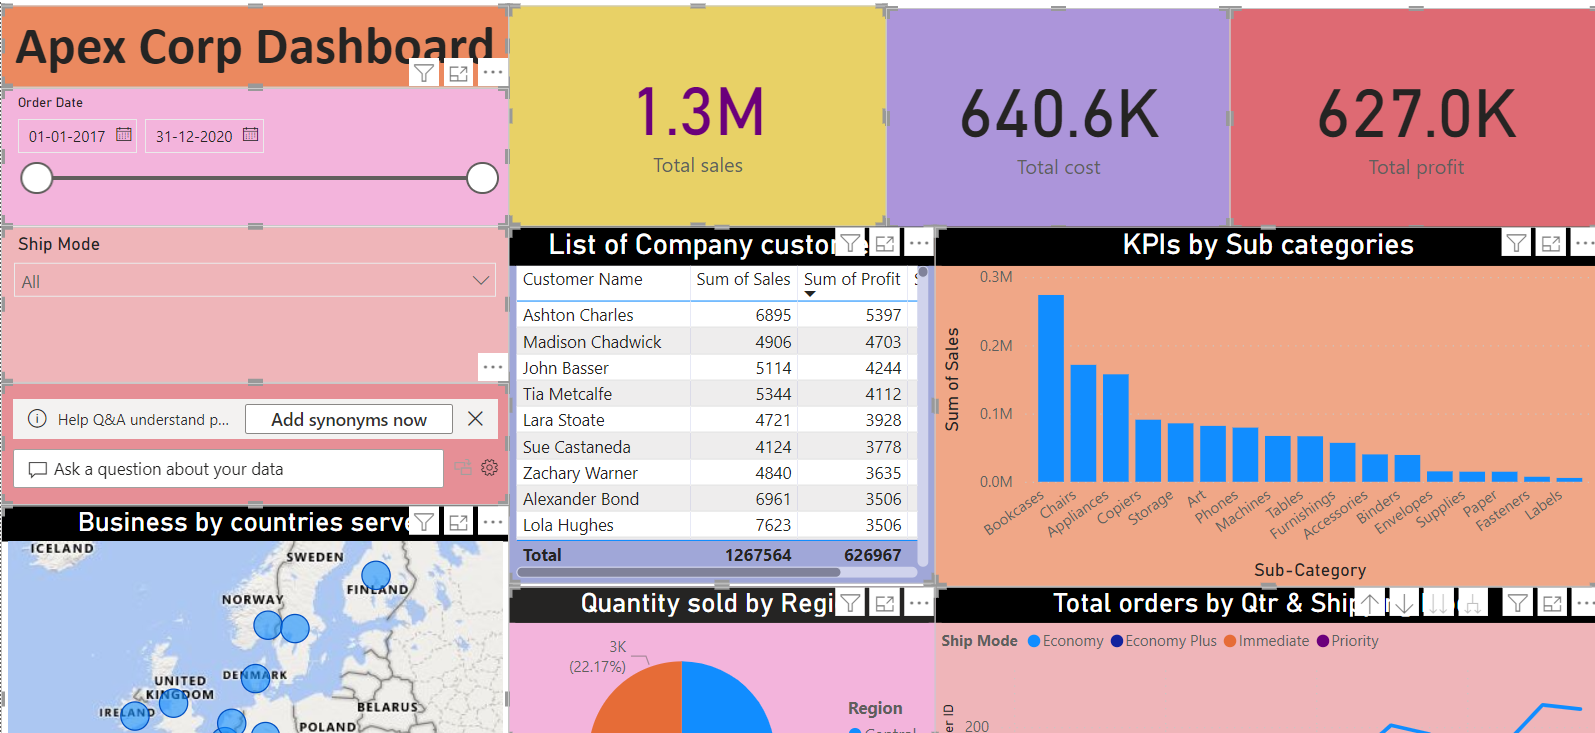

What the dashboard file says about the page in this screenshot:
{"tool":"powerbi","page":{"name":"Dashboard","canvas":[1280,720],"ordinal":0},"visuals":[{"type":"card","fields":{"Values":["List of Orders.Sales"]},"box":[406.4,9.6,301.5,177.3],"z":0},{"type":"card","fields":{"Values":["List of Orders.Cost"]},"box":[707.9,12.1,275,177.3],"z":1000},{"type":"card","fields":{"Values":["List of Orders.Profit"]},"box":[982.9,12.1,296.7,177.3],"z":2000},{"type":"tableEx","title":"List of Company customers","fields":{"Values":["List of Orders.Customer Name","List of Orders.Sales","List of Orders.Profit","List of Orders.Cost"]},"box":[406.4,186.9,340.1,285.8],"z":3000},{"type":"clusteredColumnChart","title":"KPIs by Sub categories","fields":{"Y":["List of Orders.Sales"],"Category":["List of Orders.Sub-Category"]},"box":[746.5,186.9,533.1,288.2],"z":4000},{"type":"lineChart","title":"Total orders by Qtr & Shipping Mode","fields":{"Y":["List of Orders.Order ID"],"Category":["List of Orders.Order Date.Variation.Date Hierarchy.Year","List of Orders.Order Date.Variation.Date Hierarchy.Quarter"],"Series":["List of Orders.Ship Mode"]},"box":[746.5,475.2,534.3,244.8],"z":5000},{"type":"pieChart","fields":{"Y":["List of Orders.Quantity"],"Category":["List of Orders.Region"]},"box":[406.4,475.2,340.1,244.8],"z":6000},{"type":"map","fields":{"Category":["List of Orders.Country"]},"box":[0,410.1,406.4,309.9],"z":7000},{"type":"textbox","box":[0,9.6,406.4,66.3],"z":8000},{"type":"slicer","fields":{"Values":["List of Orders.Ship Mode"]},"box":[0,186.9,406.4,125.4],"z":9000},{"type":"slicer","fields":{"Values":["List of Orders.Order Date"]},"box":[0,76,406.4,111],"z":10000},{"type":"qnaVisual","box":[0,312.4,406.4,97.7],"z":11000}]}

Visuals, with their boxes on the page's 1280x720 design canvas (x1, y1, x2, y2). These are canvas units, not pixel positions in the 1595x733 screenshot, which may show the page scaled, cropped or inside an application window:
card - List of Orders.Sales: {"x1": 406, "y1": 10, "x2": 708, "y2": 187}
card - List of Orders.Cost: {"x1": 708, "y1": 12, "x2": 983, "y2": 189}
card - List of Orders.Profit: {"x1": 983, "y1": 12, "x2": 1280, "y2": 189}
"List of Company customers" tableEx: {"x1": 406, "y1": 187, "x2": 746, "y2": 473}
"KPIs by Sub categories" clusteredColumnChart: {"x1": 746, "y1": 187, "x2": 1280, "y2": 475}
"Total orders by Qtr & Shipping Mode" lineChart: {"x1": 746, "y1": 475, "x2": 1281, "y2": 720}
pieChart - List of Orders.Quantity x List of Orders.Region: {"x1": 406, "y1": 475, "x2": 746, "y2": 720}
map - List of Orders.Country: {"x1": 0, "y1": 410, "x2": 406, "y2": 720}
textbox: {"x1": 0, "y1": 10, "x2": 406, "y2": 76}
slicer - List of Orders.Ship Mode: {"x1": 0, "y1": 187, "x2": 406, "y2": 312}
slicer - List of Orders.Order Date: {"x1": 0, "y1": 76, "x2": 406, "y2": 187}
qnaVisual: {"x1": 0, "y1": 312, "x2": 406, "y2": 410}
